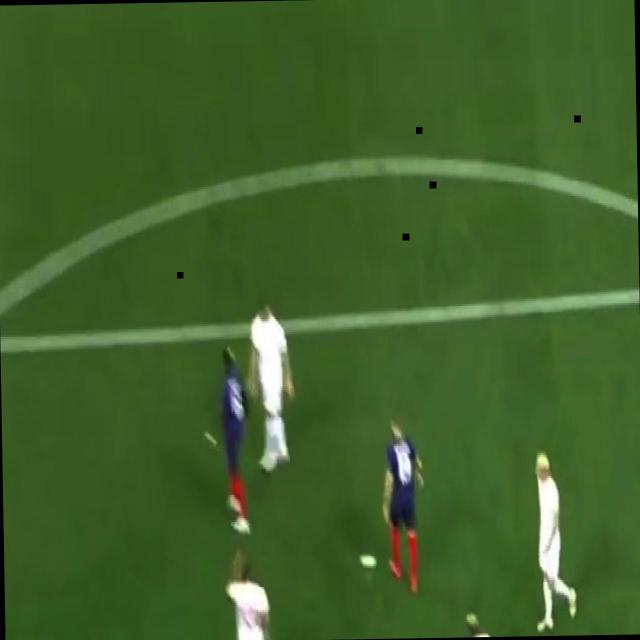ball: (359, 553, 372, 579)
player-white: (380, 414, 426, 598), (212, 345, 253, 541), (249, 298, 290, 470), (532, 457, 572, 629), (225, 554, 269, 640), (459, 608, 506, 638)
